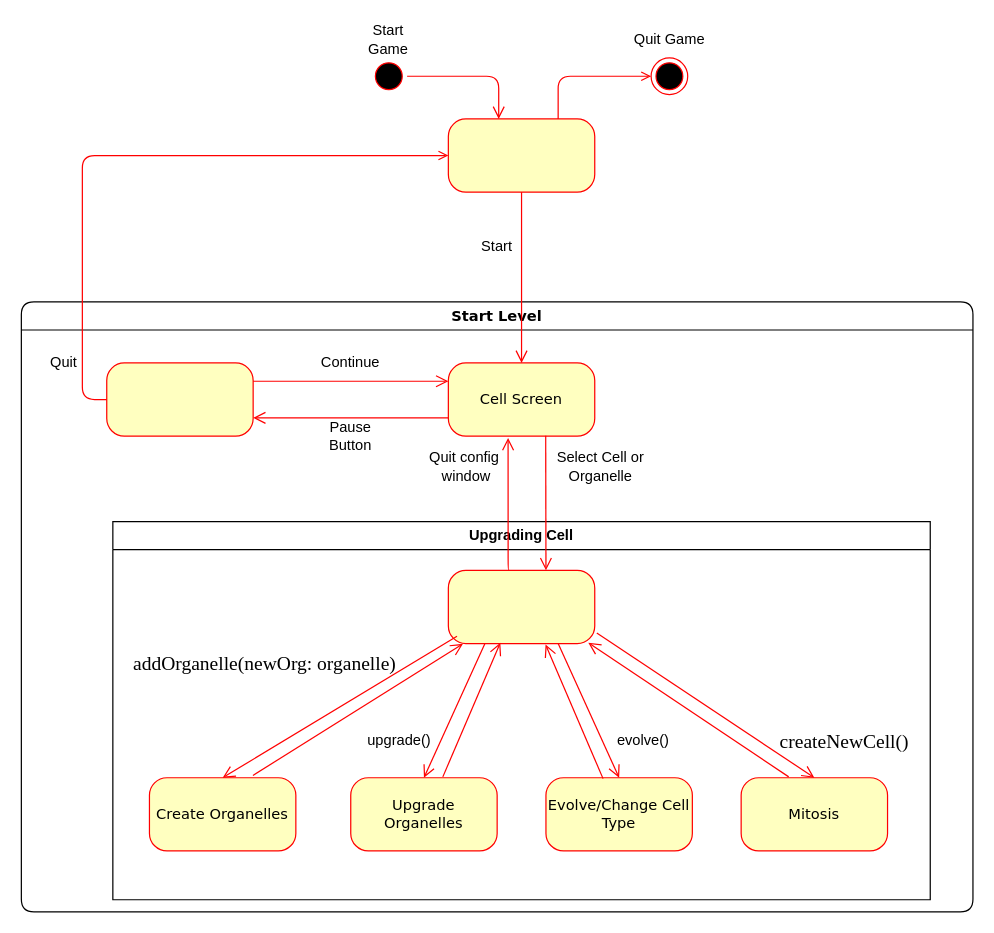
Image size: 994x933. Some labels were removed from this diagram. The shapes that lost their labels are listed below. From the top down, each one's centre as x and y in pixels, then its label:
pixel 521 155: Main Menu
pixel 179 399: Pause Menu
pixel 521 606: Cell/Organelle Configuration
